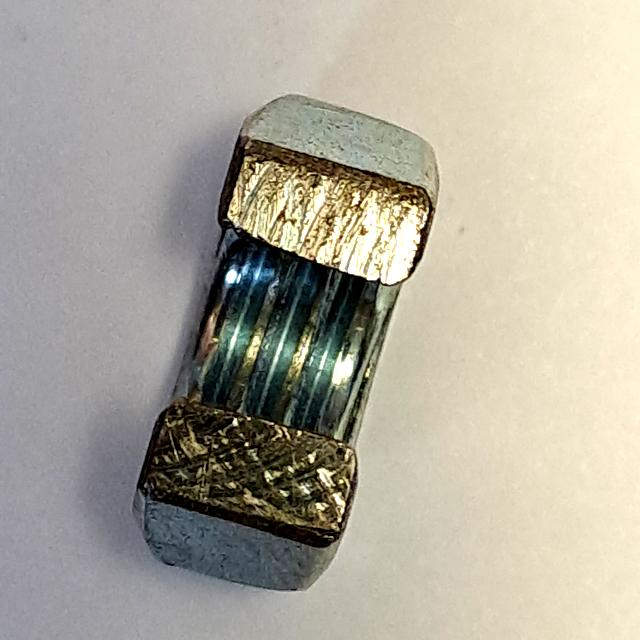Side-Fracture: (121, 85, 452, 600)
